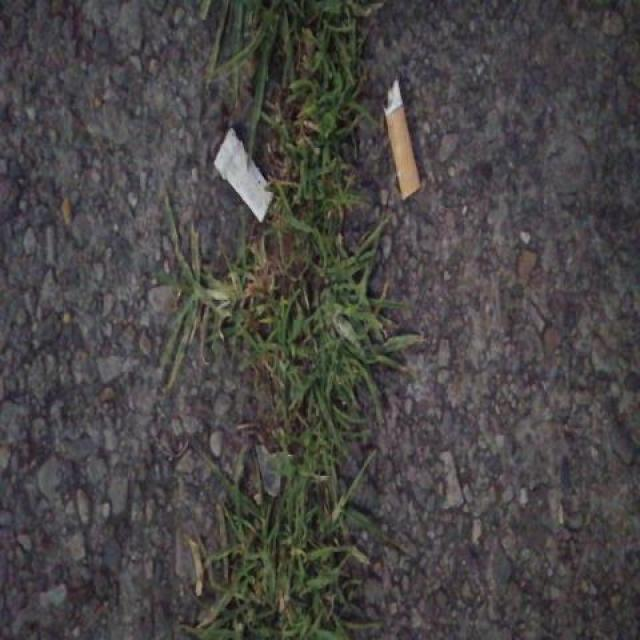non-organic waste: (206, 124, 278, 228), (379, 74, 425, 205)
